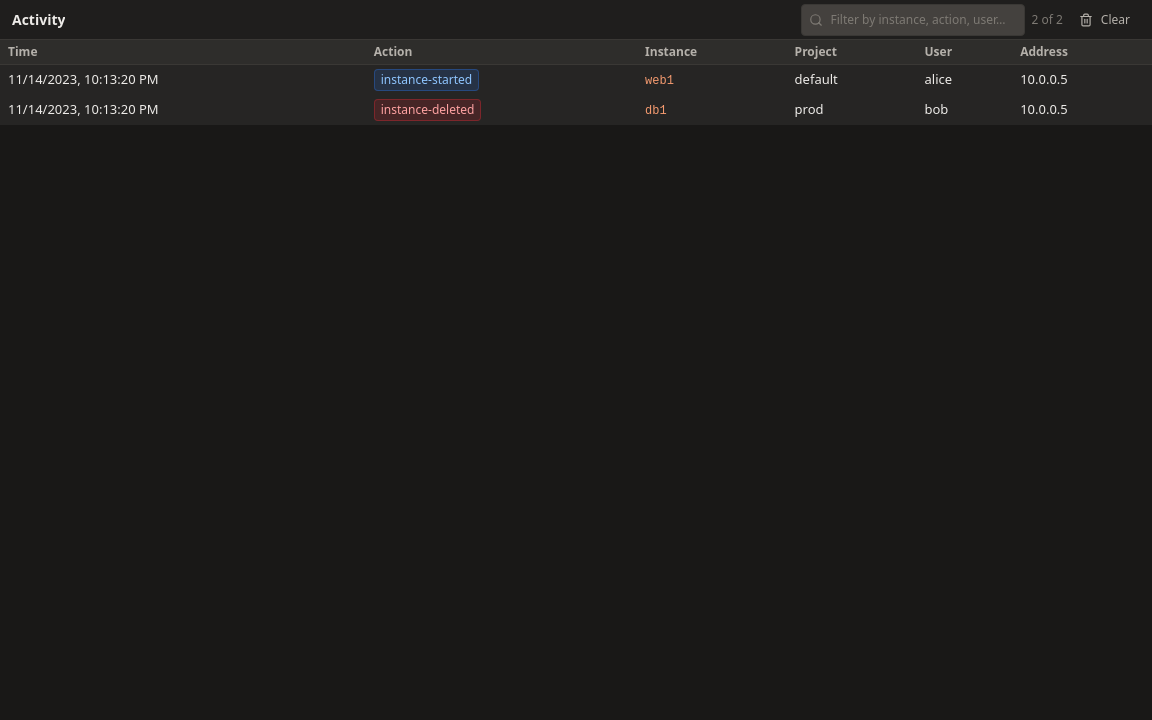
Test case: ActivityPage › clears events after confirmation
Expected: the text "instance-started" is shown, [374, 69, 479, 91]
What coordinates should you click on to do the following:
click the button with test id "activity-clear"
I would click on:
 (1104, 20)
Its box is [1069, 6, 1140, 34].
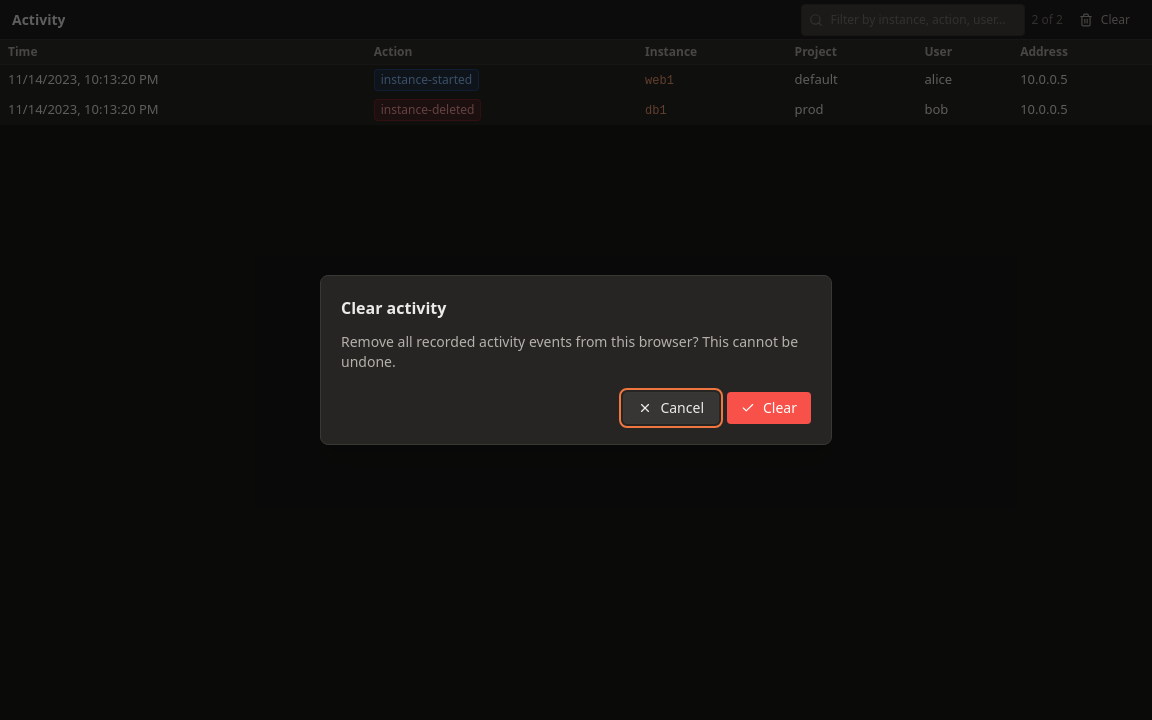
What coordinates should you click on to do the following:
click the button with test id "confirm-confirm"
I would click on:
 (769, 408)
Its box is [727, 392, 811, 424].
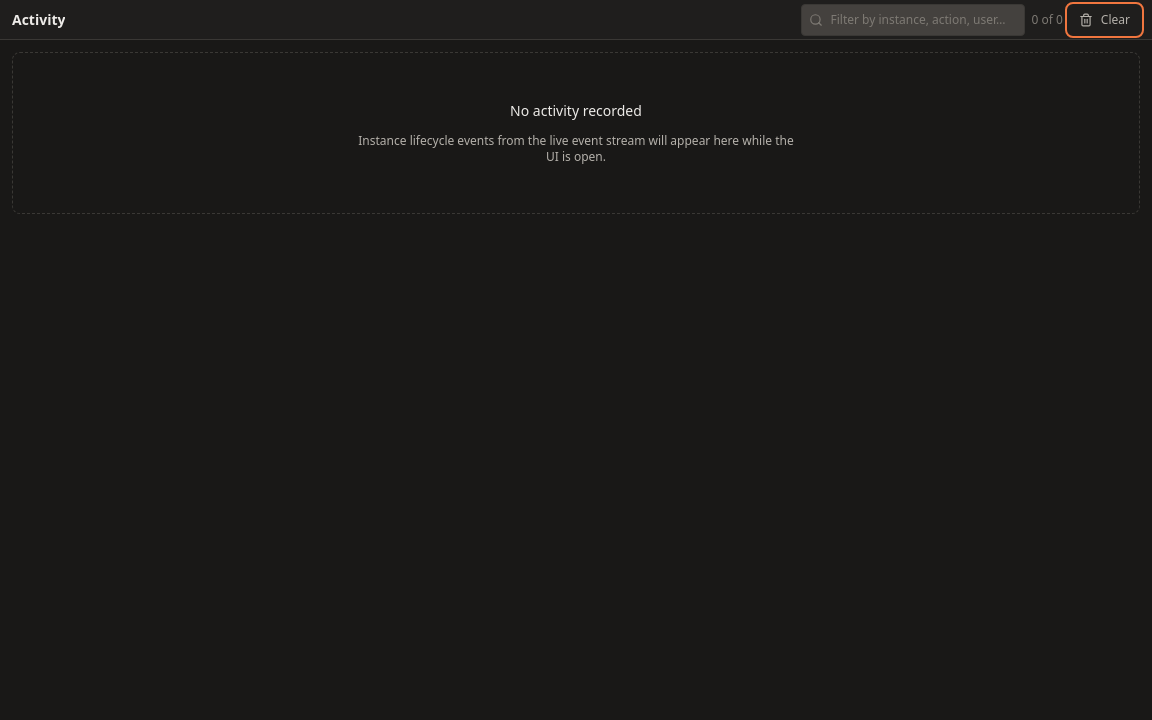
Now the text "instance-started" is gone
Now the text "No activity recorded" is shown, box [510, 101, 642, 121]
